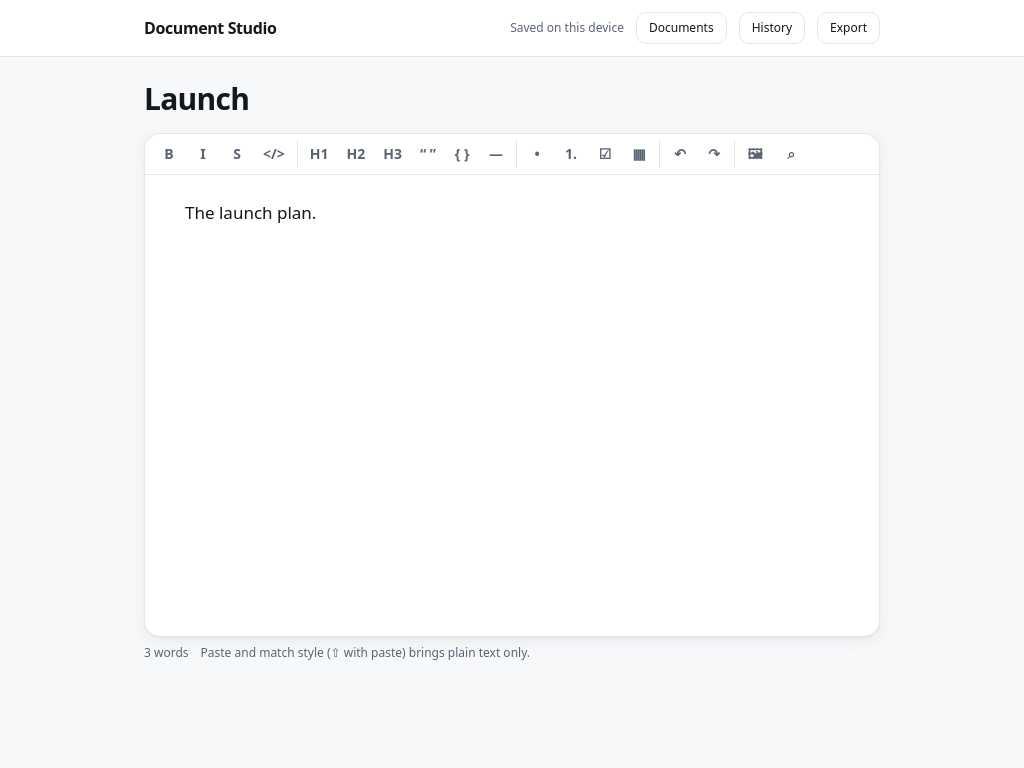
Test: managing documents — integration › deleting asks first; Cancel keeps the document, Delete removes it
Expected: the field named "Document" is shown, [185,201,316,224]
Click the button "Documents".
click(681, 28)  # box [636,12,727,44]
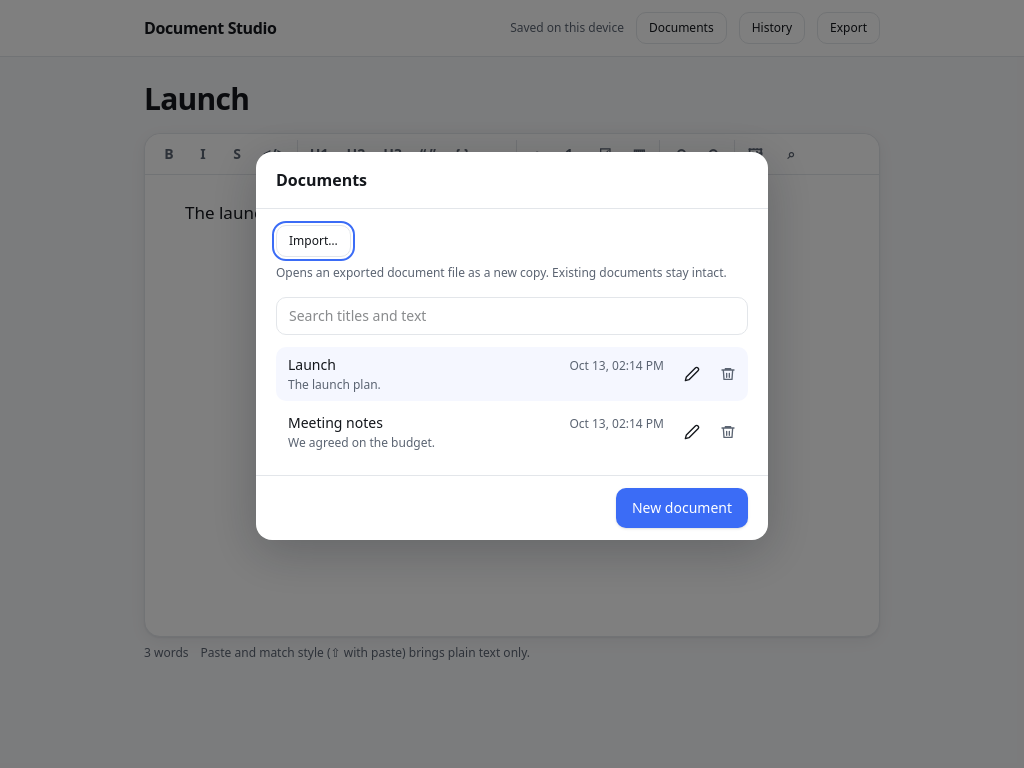
Expected: the list named "Documents" is shown, [276,347,748,459]
Click the button named "Delete “Meeting notes”".
click(728, 432)  # box [712,416,744,448]
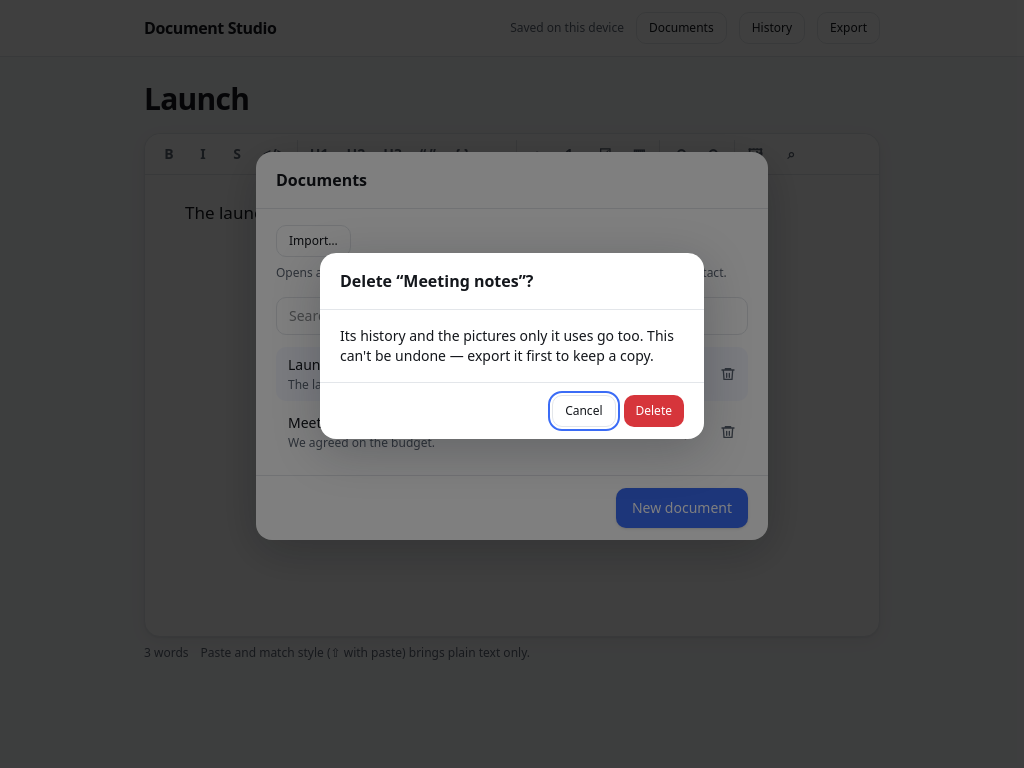
Click the button "Cancel".
click(584, 411)  # box [552,395,616,427]
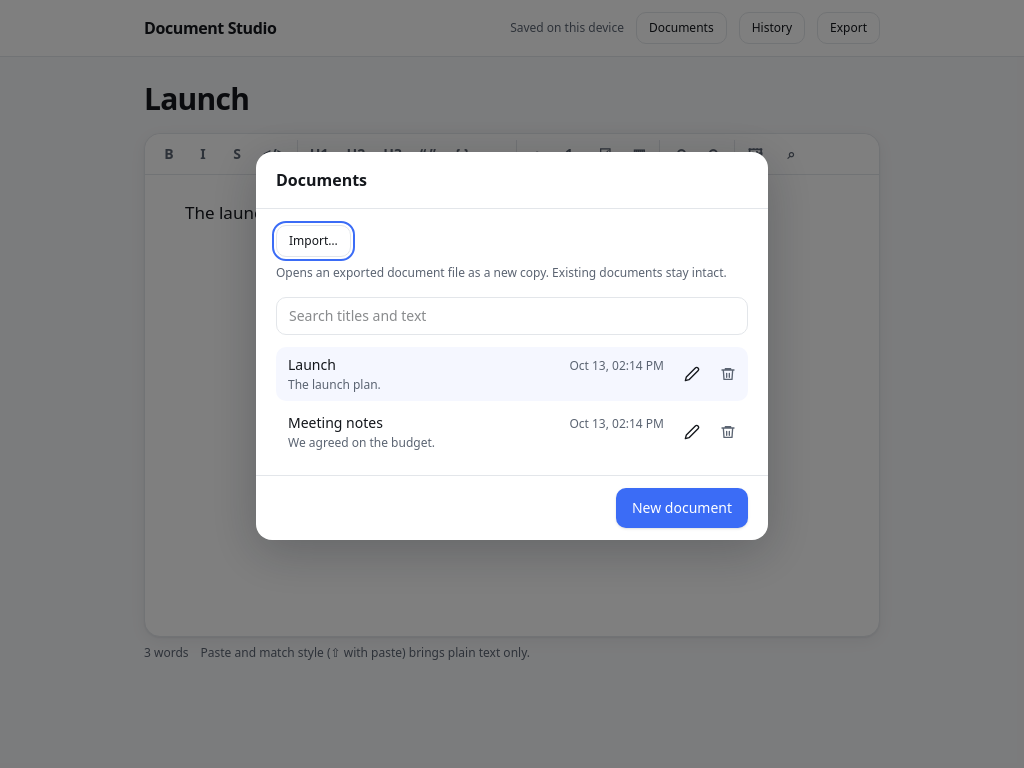
Expected: the heading "Delete" is gone
Click the button named "Delete “Meeting notes”".
click(728, 432)  # box [712,416,744,448]
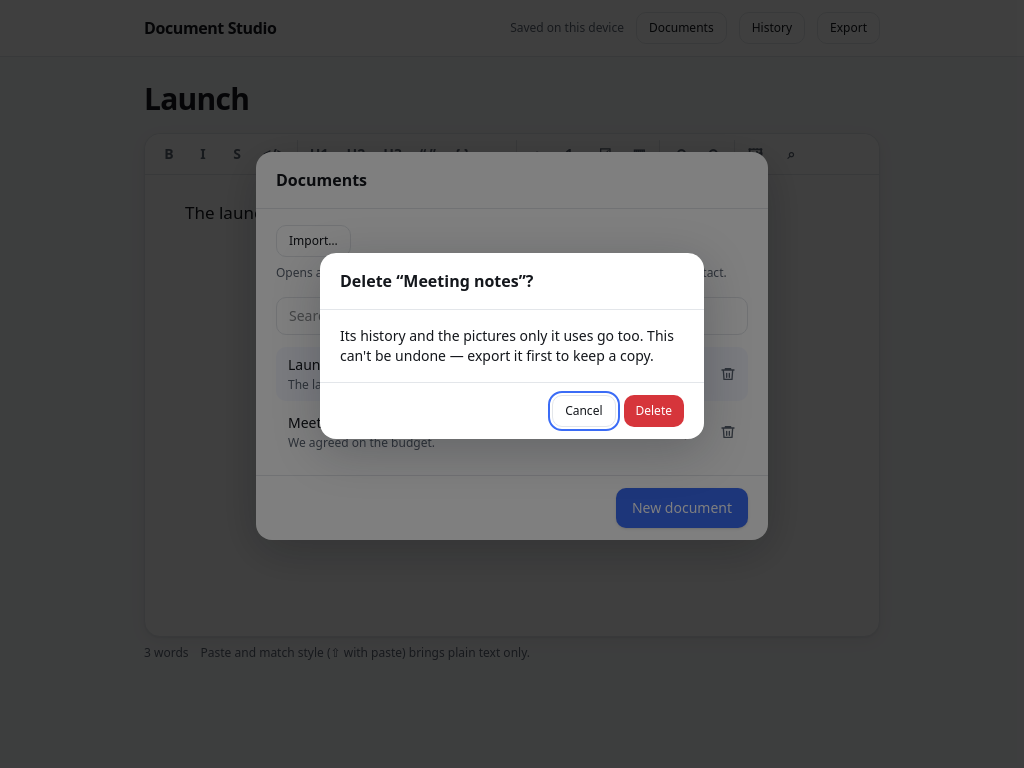
Click the button "Delete".
click(654, 411)  # box [624,395,684,427]
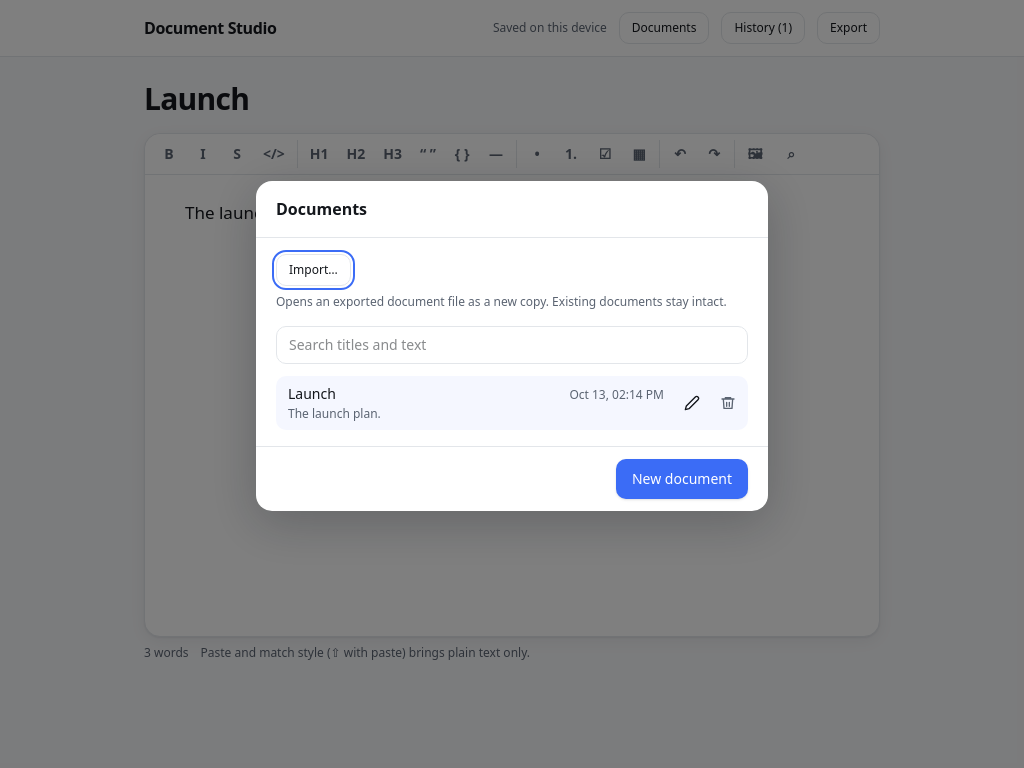
Expected: the heading "Delete “Meeting notes”" is gone
